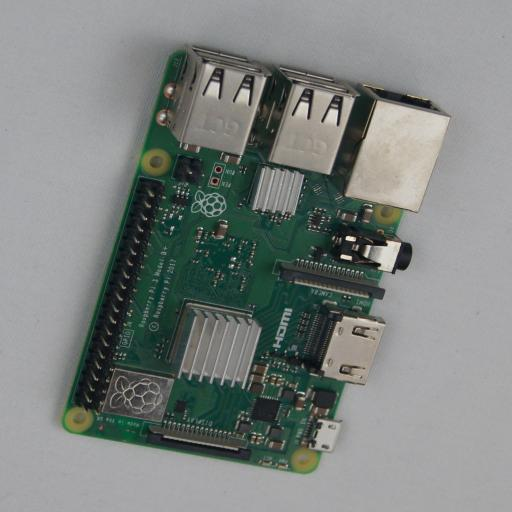Raspberry Pi 3 B-: (62, 44, 450, 472)
